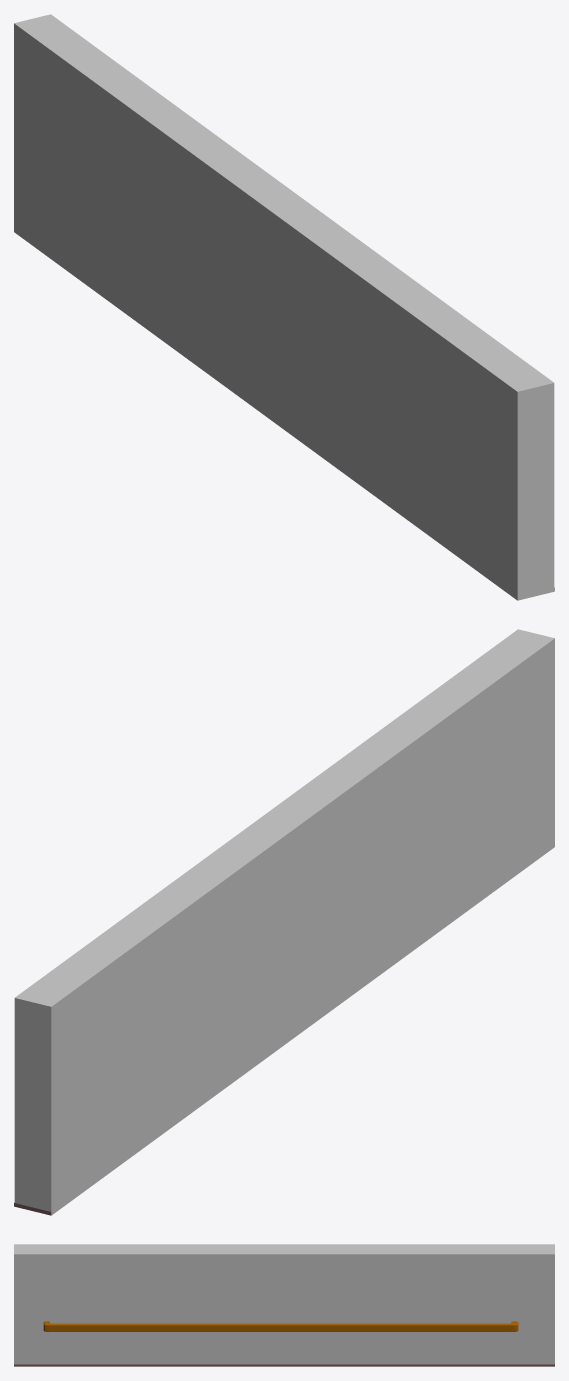
File: Wall 1.fbx
3 renders of one model, top to bottom at view 1: azimuth 30°, elevation 25°; view 2: azimuth 150°, elevation 25°; view 3: azimuth 270°, elevation 25°, orthographic. The views are drawn at different scales.
Visible parts, largest first — view 1: pCube2; view 2: pCube2; view 3: pCube2, pCube3.
Boxes of the visible parts, x1,y1,x2,y2 form: pCube2: (14, 14, 554, 600); pCube2: (14, 629, 554, 1215); pCube2: (14, 1244, 554, 1366); pCube3: (43, 1321, 518, 1331).
Bounding box in the file's own units: 0.7592 × 3 × 13.11.
